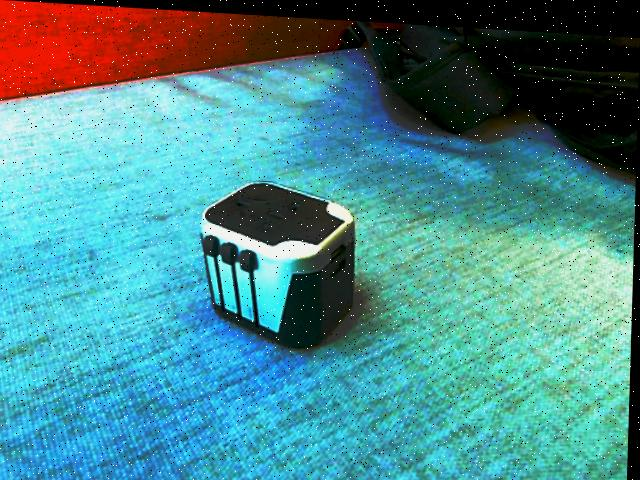adapter: (198, 174, 359, 347)
